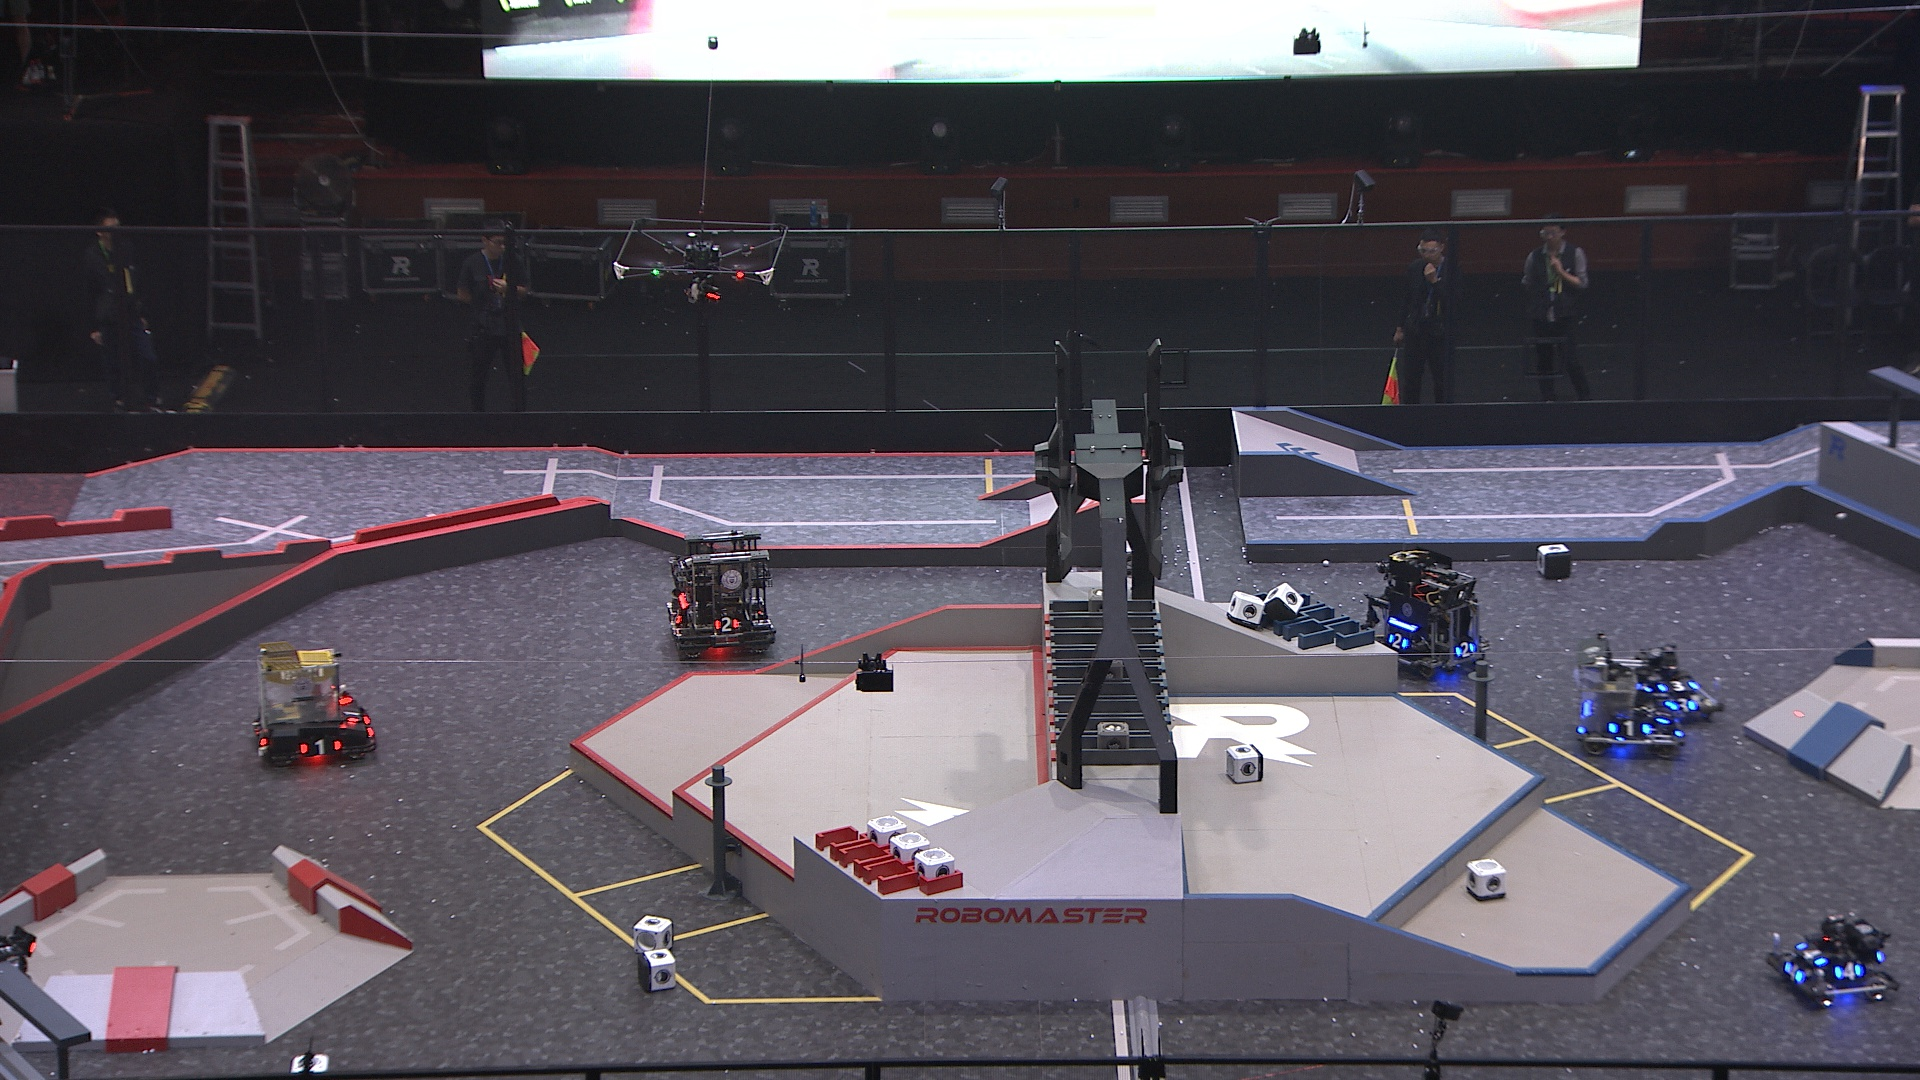armor: (1610, 717, 1648, 738), (1797, 940, 1826, 968), (301, 738, 342, 756), (1832, 963, 1865, 982), (343, 698, 363, 727), (1652, 702, 1673, 728), (1782, 960, 1803, 986), (713, 616, 741, 633), (1671, 695, 1697, 712), (1385, 633, 1408, 651), (1455, 641, 1477, 659), (1669, 678, 1695, 694), (253, 725, 266, 752), (670, 607, 684, 628)
car: (1364, 546, 1493, 675), (251, 641, 378, 766), (665, 529, 781, 655), (1571, 640, 1687, 760), (1766, 913, 1898, 1002), (1629, 640, 1727, 733)
